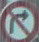Don't turn right: (0, 0, 38, 40)
